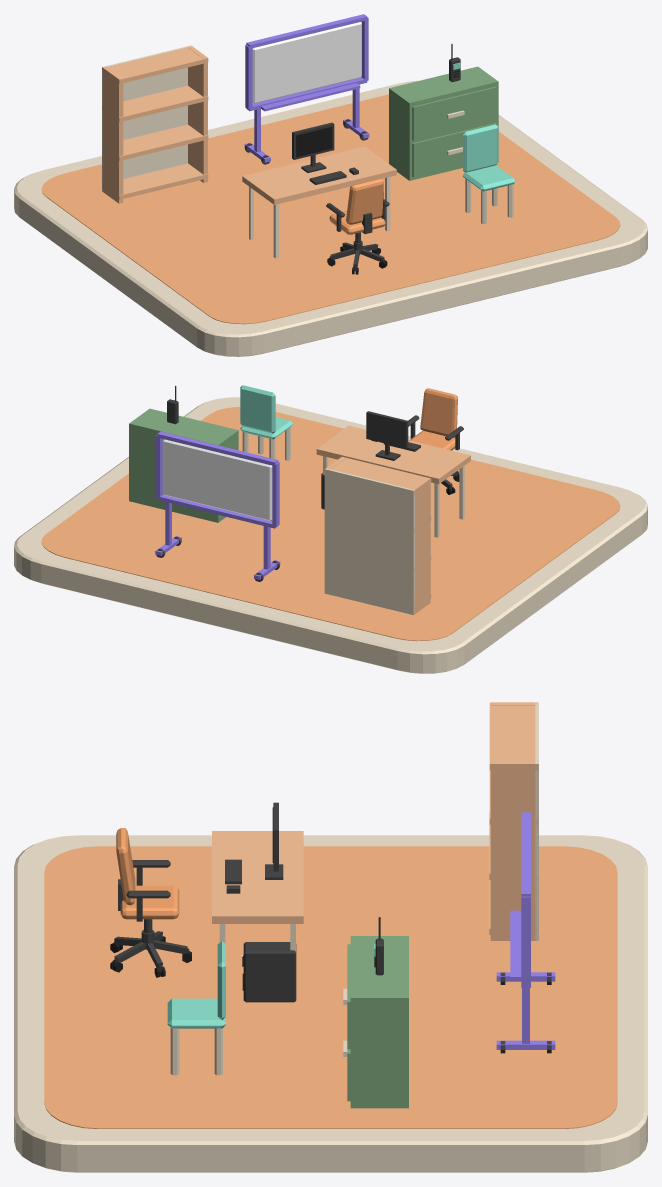
File: room.fbx
The picture shows the model from 3 angles, top to bottom: view 1: azimuth 30°, elevation 25°; view 2: azimuth 150°, elevation 25°; view 3: azimuth 270°, elevation 25°; orthographic projection. The views are drawn at different scales.
Visible parts, largest first — view 1: COM-02 Floor Surface, COM-01 Rounded Base Direct, Cabinet, Writing surface, Top, Back, COM-04_Chair_blender_direct, Side, Side.001, Shelf.003, Shelf, Shelf.002 (+8 smaller); view 2: COM-02 Floor Surface, COM-01 Rounded Base Direct, Back, Writing surface, Cabinet, Top, COM-04_Chair_blender_direct, Side, Backrest, Frame, Shelf.003, Frame rail.001 (+4 smaller); view 3: COM-02 Floor Surface, COM-01 Rounded Base Direct, Cabinet, Top, Side.001, COM-04_Chair_blender_direct, Tower, Shelf.003, Seat, Back, Frame upright.001, Frame rail.001 (+3 smaller).
Part boxes in pixels (x1,y1,x2,y2): COM-02 Floor Surface: (41, 94, 620, 324); COM-01 Rounded Base Direct: (14, 80, 647, 356); Cabinet: (389, 66, 498, 180); Writing surface: (252, 22, 361, 103); Top: (242, 146, 396, 258); Back: (102, 45, 191, 191); COM-04_Chair_blender_direct: (326, 178, 389, 274); Side: (103, 66, 123, 203); Side.001: (188, 46, 207, 182); Shelf.003: (102, 47, 208, 83); Shelf: (102, 163, 208, 199); Shelf.002: (102, 85, 208, 122); COM-02 Floor Surface: (41, 407, 620, 641); COM-01 Rounded Base Direct: (14, 397, 647, 673); Back: (324, 468, 414, 615); Writing surface: (162, 439, 272, 520); Cabinet: (129, 408, 238, 522); Top: (316, 425, 470, 537); COM-04_Chair_blender_direct: (408, 388, 463, 494); Side: (410, 477, 430, 614); Backrest: (240, 385, 275, 433); Frame: (366, 411, 408, 460); Shelf.003: (331, 456, 431, 494); Frame rail.001: (157, 431, 278, 465); COM-02 Floor Surface: (44, 846, 617, 1128); COM-01 Rounded Base Direct: (14, 835, 647, 1172); Cabinet: (343, 936, 408, 1108); Top: (212, 831, 303, 951); Side.001: (490, 761, 536, 940); COM-04_Chair_blender_direct: (110, 828, 191, 977); Tower: (243, 942, 296, 1002); Shelf.003: (489, 702, 538, 770); Seat: (167, 998, 225, 1028); Back: (535, 702, 538, 940); Frame upright.001: (521, 896, 530, 986); Frame rail.001: (521, 812, 530, 896).
Bounding box in the file's own units: 600 × 190 × 520.
